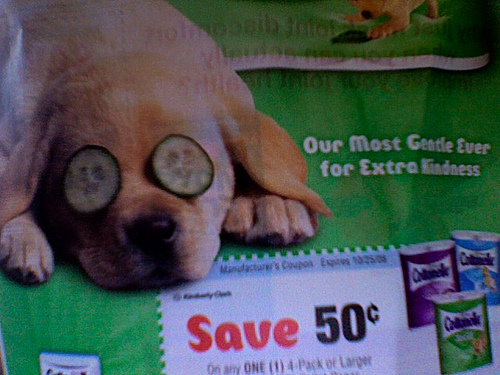cucumber: (62, 143, 122, 218), (149, 134, 215, 199)
